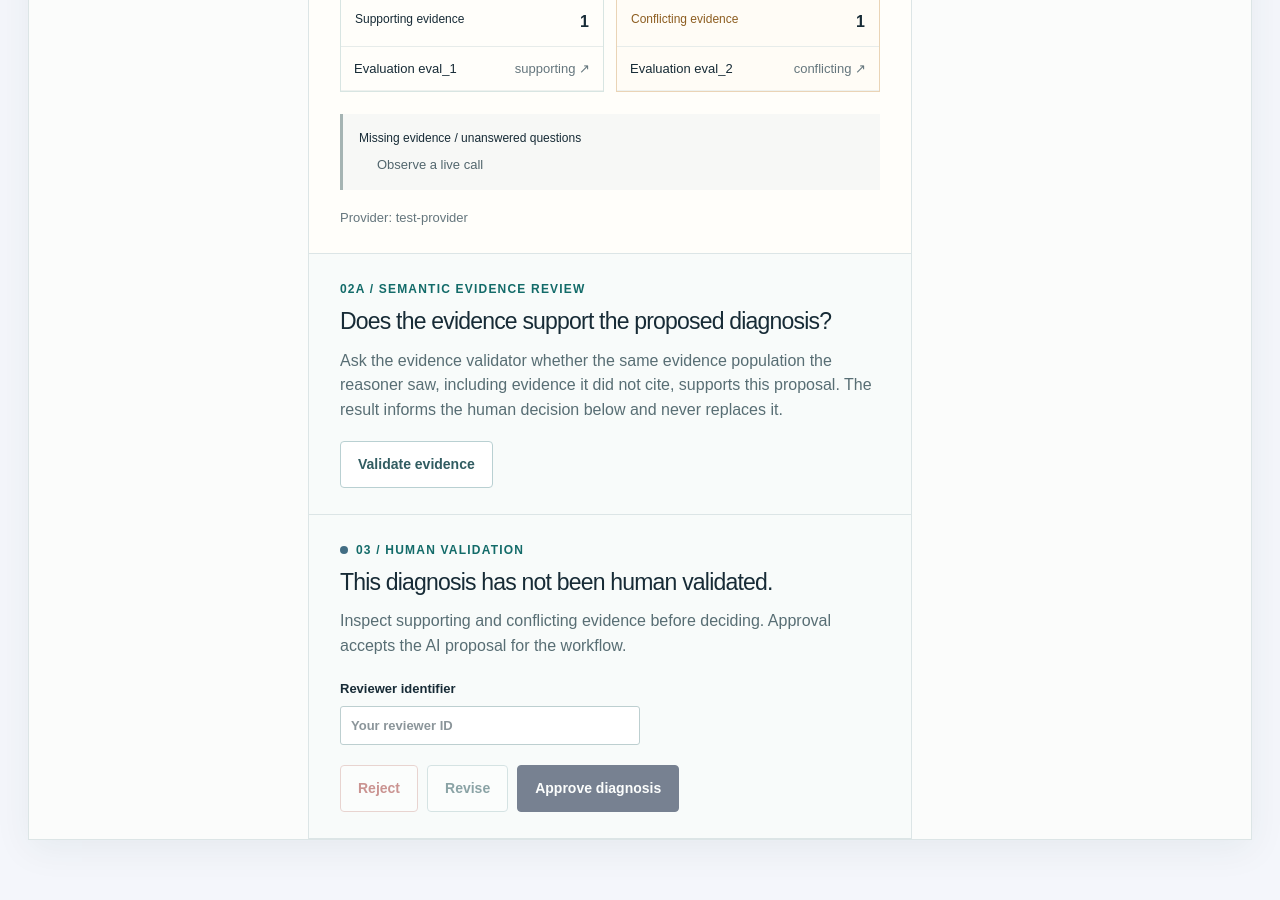
Test: diagnostic review semantics › shows a questioned evidence review separately from human approval
(page scrolled)
Step 1. Click the button "Validate evidence" → (416, 464), box [340, 441, 493, 488]
(page scrolled)
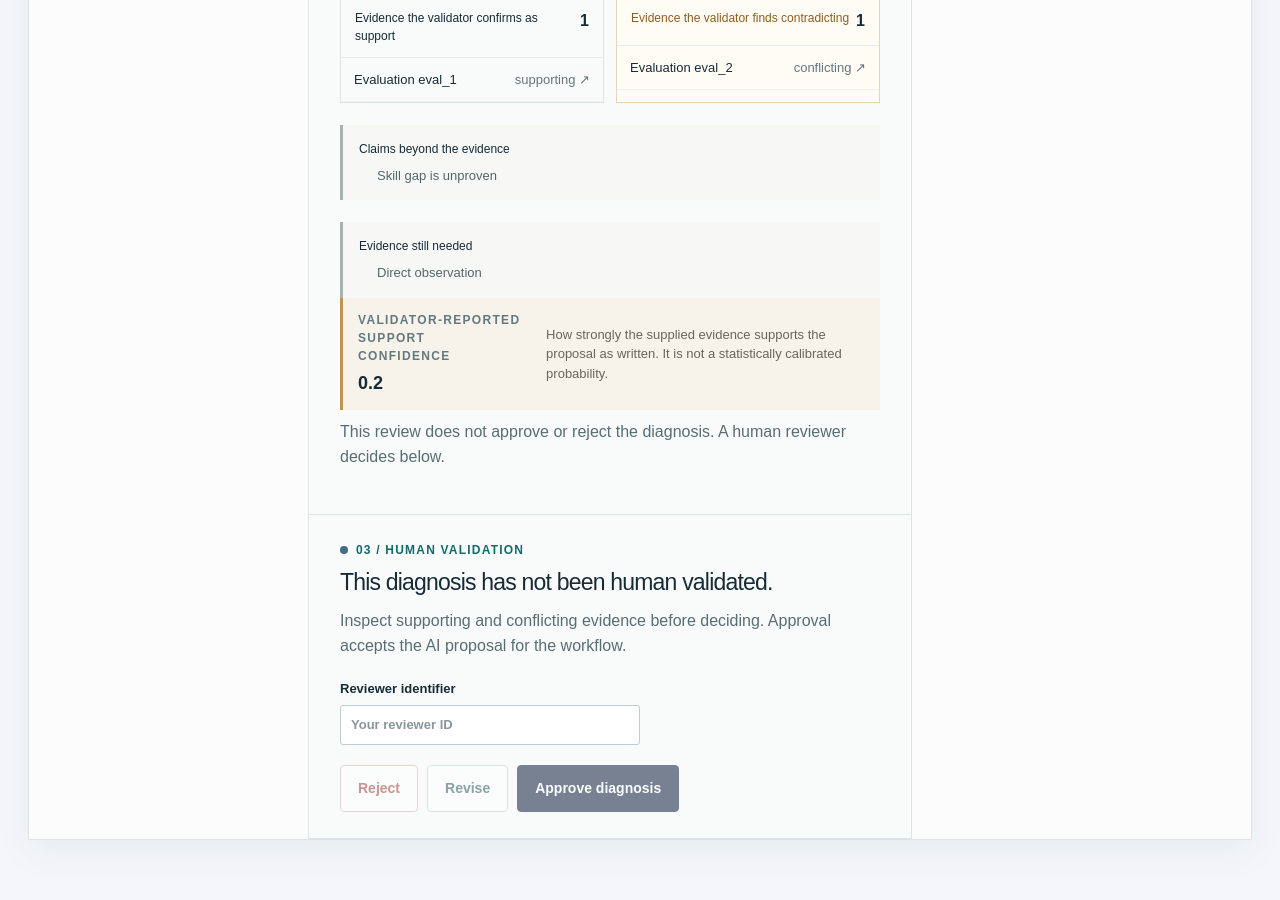
Check: the list item "Skill gap is unproven" is shown, box [377, 168, 497, 183]
Check: the list item "Direct observation" is shown, box [377, 266, 482, 280]
Check: the text "0.2" is shown, box [358, 373, 383, 393]
